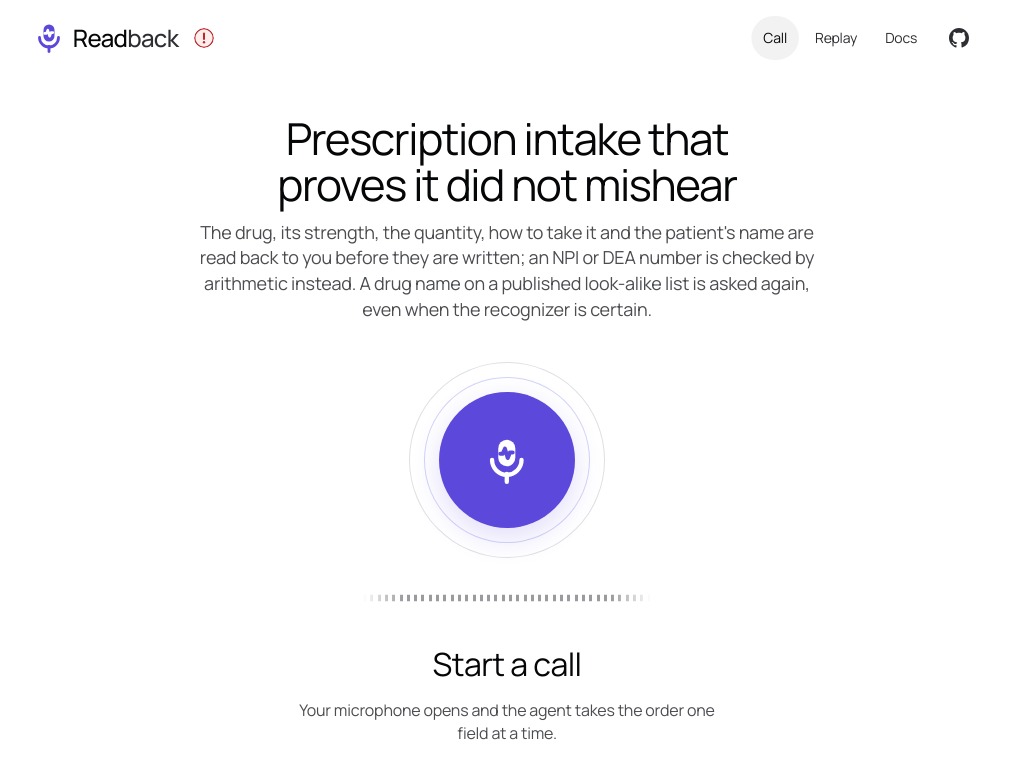
Test: H12: no failure is replaced by a made-up answer › shows a refused caller turn as an alert instead of an empty order
The image size is (1024, 759).
Click the button named "Start listening" at (507,460), box [439,392,575,528]
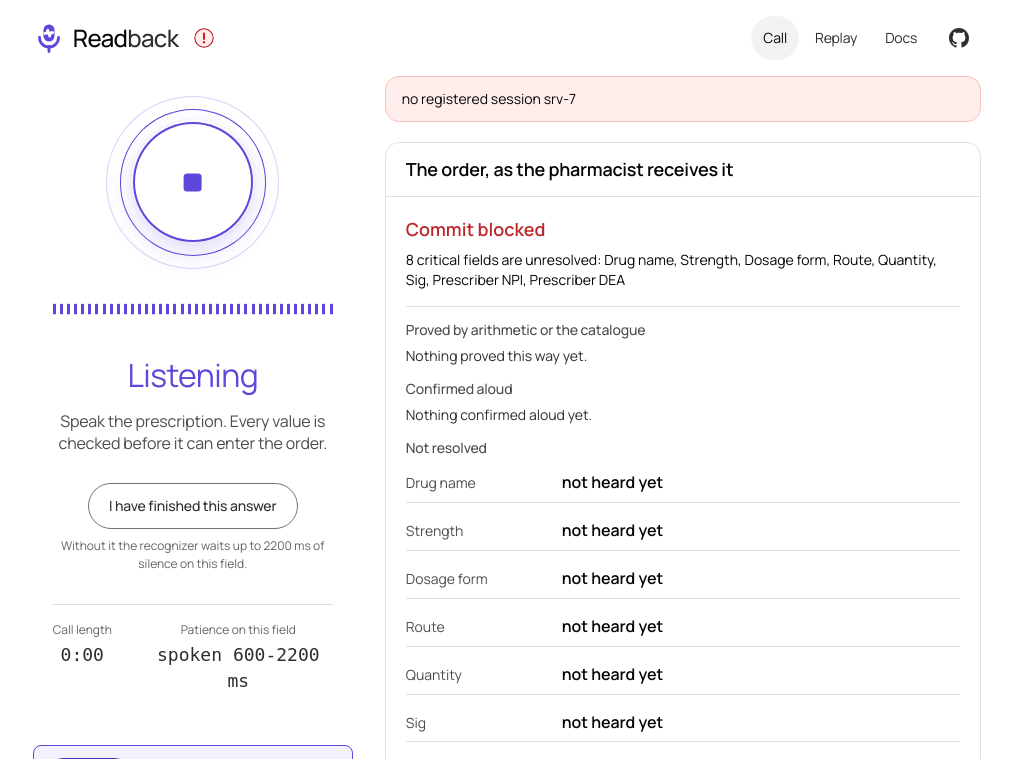
Now the message reads "no registered session srv-7", box [402,89,576,108]
